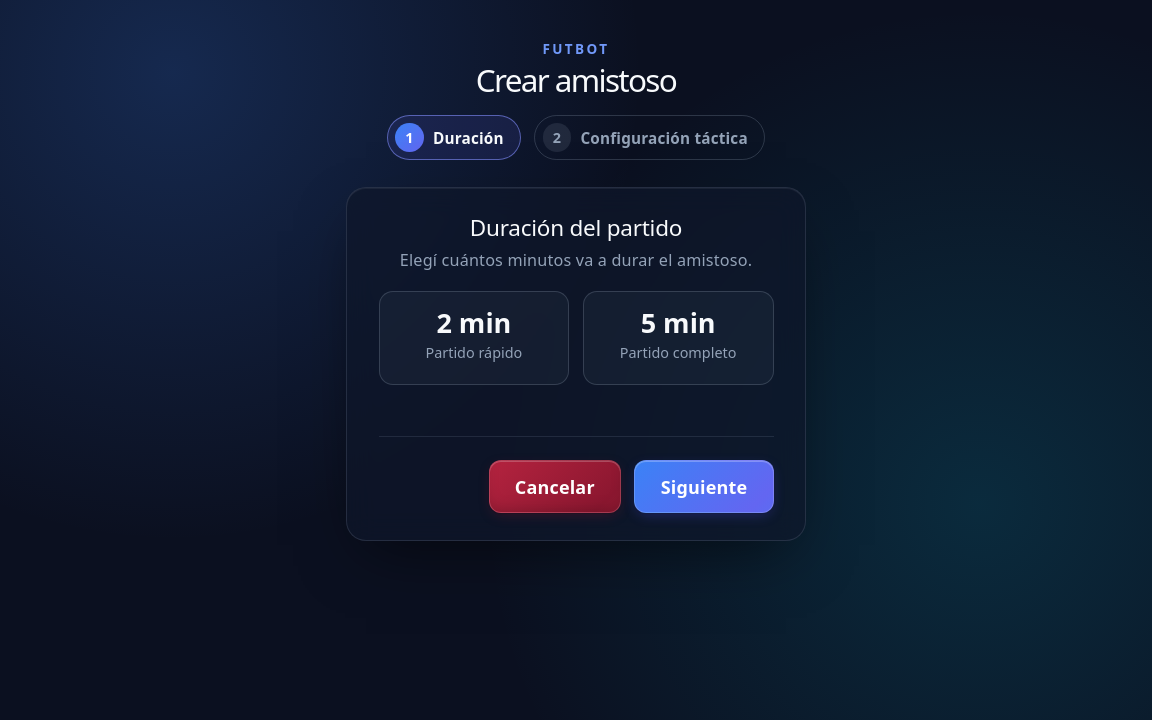
Test case: CreateFriendlyPage › Paso 1: duración › Debería mostrar un error si no se eligió ninguna duración
This screenshot has width=1152, height=720.
Click the button "Siguiente".
click(704, 487)  # box top-left (634, 460), bottom-right (774, 513)
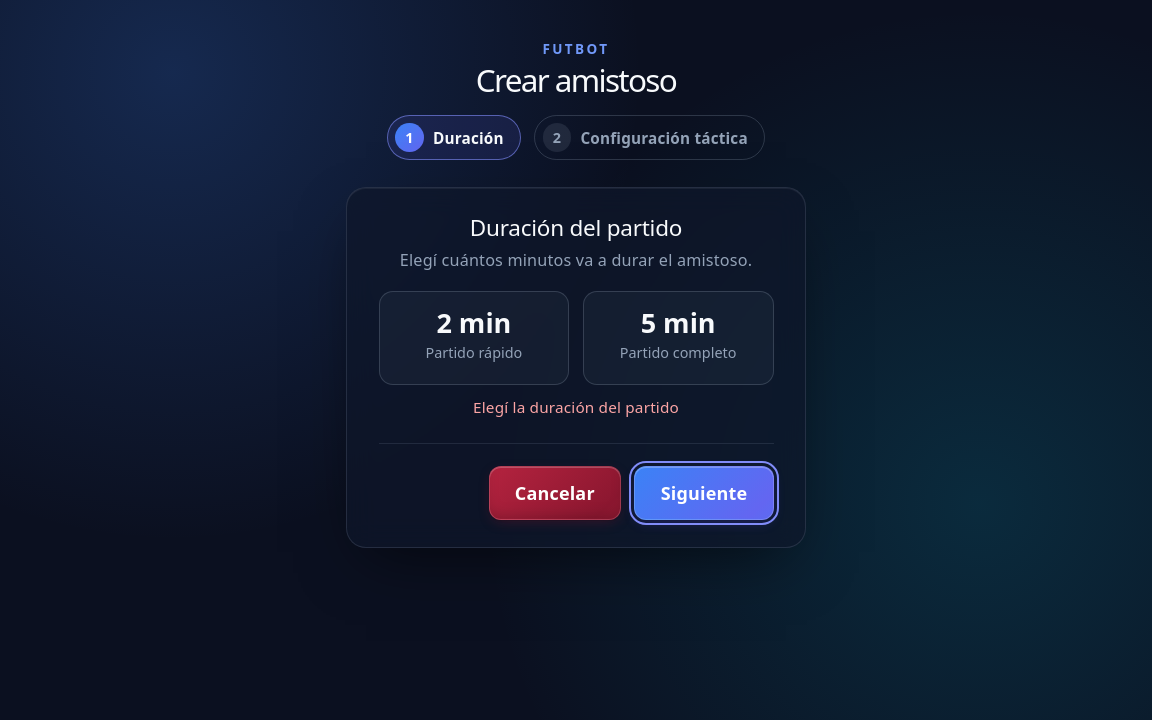
Now the text "Elegí la duración del partido" is shown, box top-left (473, 397), bottom-right (679, 417)
